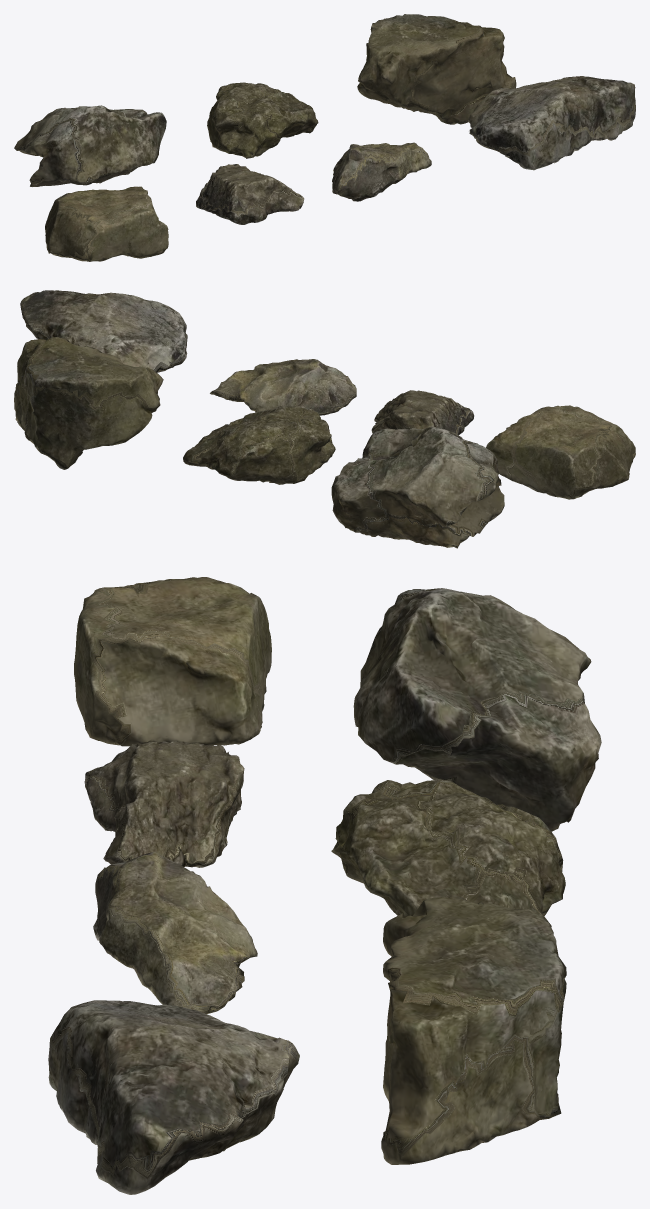
File: rock_moss_set_02.glb
3 views of the same model, one above another, from view 1: azimuth 30°, elevation 25°; view 2: azimuth 150°, elevation 25°; view 3: azimuth 270°, elevation 25° (orthographic). The views are drawn at different scales.
Parts seen in each view (by area): view 1: rock_moss_set_02_rock08; view 2: rock_moss_set_02_rock08; view 3: rock_moss_set_02_rock08.
Boxes of the visible parts, box(x1,y1,x2,y2) form: rock_moss_set_02_rock08: box(14, 14, 635, 261); rock_moss_set_02_rock08: box(14, 290, 635, 548); rock_moss_set_02_rock08: box(48, 577, 601, 1194).
Size of the model in its own units: 8.27 by 1.37 by 3.4.
1 material, 1 textured.
